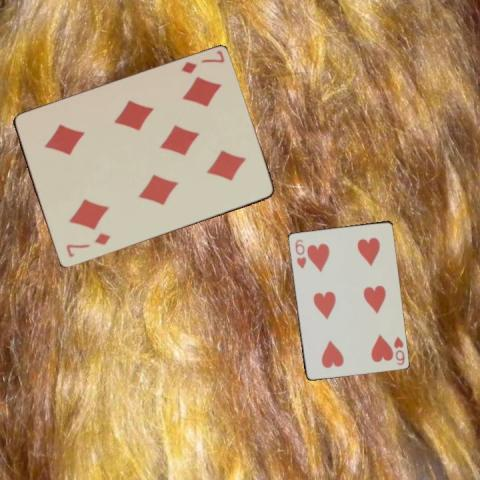6h: (292, 236, 307, 270), (391, 333, 406, 367)
7d: (63, 230, 112, 259), (178, 48, 226, 75)
